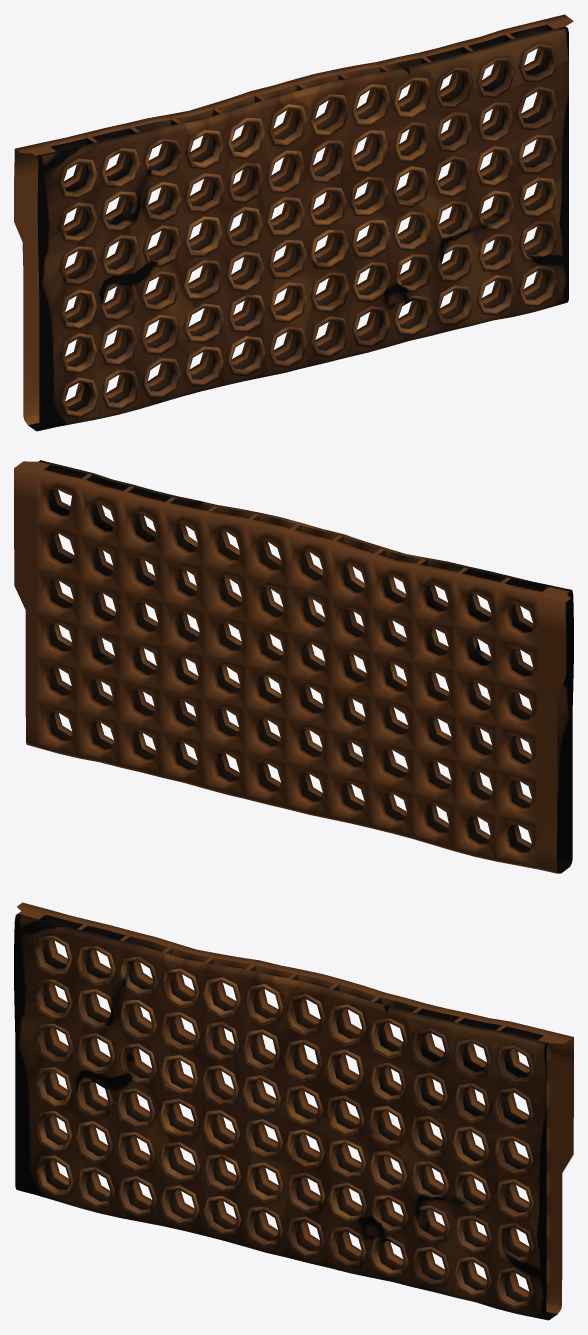
File: Grille.FBX
3 views of the same model, one above another, from view 1: azimuth 30°, elevation 25°; view 2: azimuth 150°, elevation 25°; view 3: azimuth 330°, elevation 25° (orthographic).
Visible parts, largest first — view 1: Grille; view 2: Grille; view 3: Grille.
Boxes of the visible parts, x1=… form: Grille: x1=14, y1=14, x2=573, y2=431; Grille: x1=14, y1=460, x2=573, y2=873; Grille: x1=14, y1=902, x2=573, y2=1320.
Bounding box in the file's own units: 13.21 × 6.42 × 0.7052.
